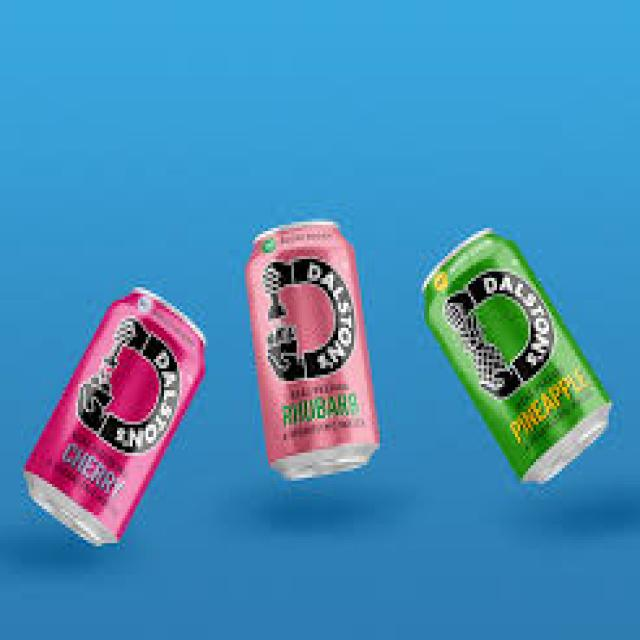Cans: (408, 222, 616, 493), (16, 278, 213, 562), (239, 215, 388, 484)
